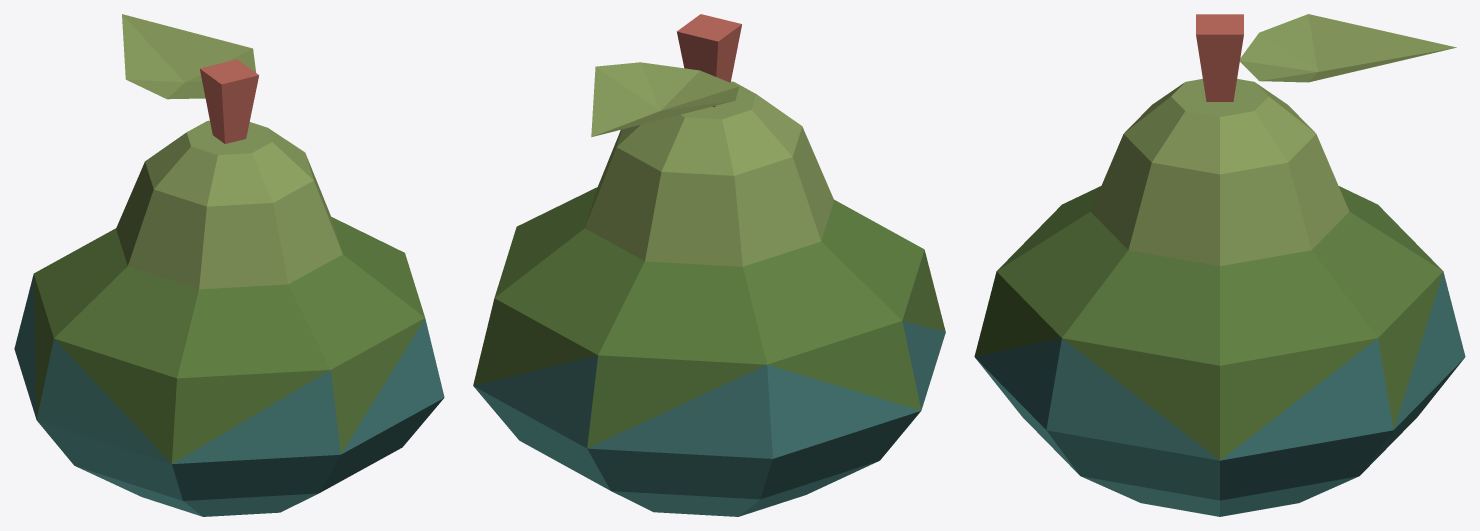
The model's file is pear.glb.
3 renders of one model, left to right at view 1: azimuth 30°, elevation 25°; view 2: azimuth 150°, elevation 25°; view 3: azimuth 270°, elevation 25°, orthographic. The views are drawn at different scales.
Size of the model in its own units: 1 by 1 by 1.
